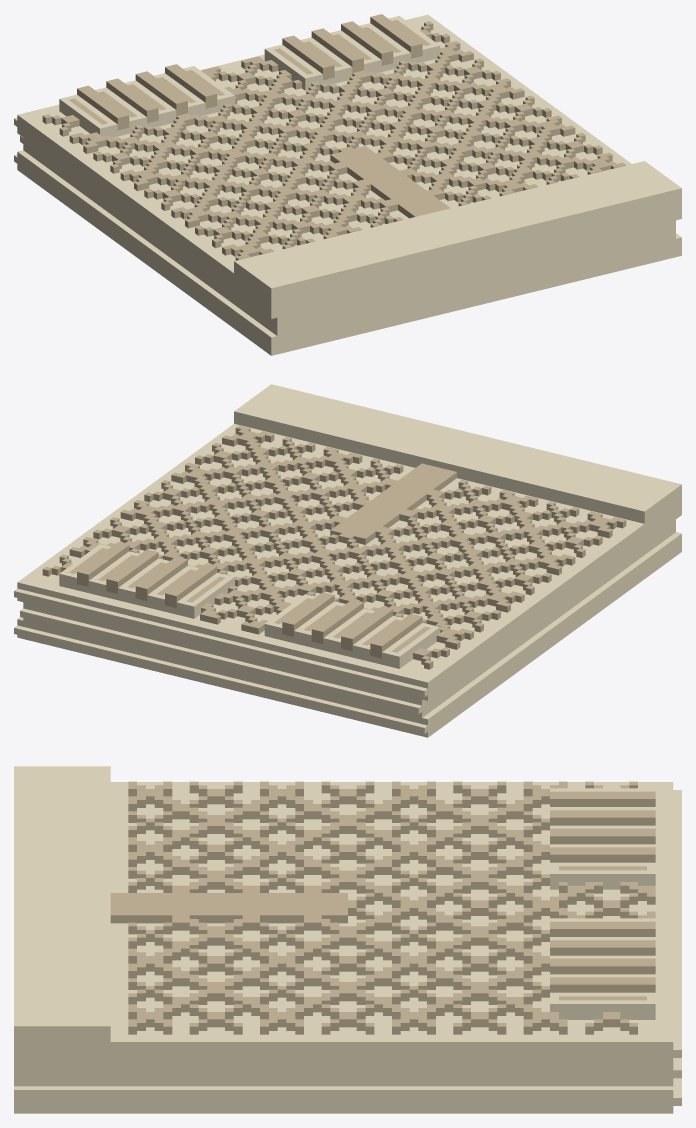
File: long_underpants.glb
The picture shows the model from 3 angles, top to bottom: view 1: azimuth 30°, elevation 25°; view 2: azimuth 150°, elevation 25°; view 3: azimuth 270°, elevation 25°; orthographic projection. The views are drawn at different scales.
Visible parts, largest first — view 1: long_underpants:compound; view 2: long_underpants:compound; view 3: long_underpants:compound.
Boxes of the visible parts, x1,y1,x2,y2 form: long_underpants:compound: (14, 14, 681, 355); long_underpants:compound: (14, 384, 681, 737); long_underpants:compound: (14, 766, 681, 1113).
Size of the model in its own units: 0.28 by 0.048 by 0.304.
